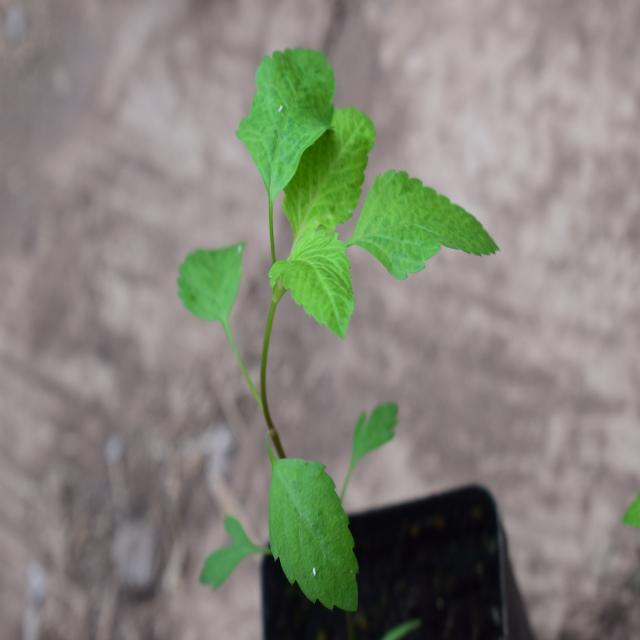Bidens pilosa: (177, 38, 490, 609)
